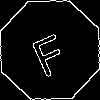F: (25, 25, 71, 79)
